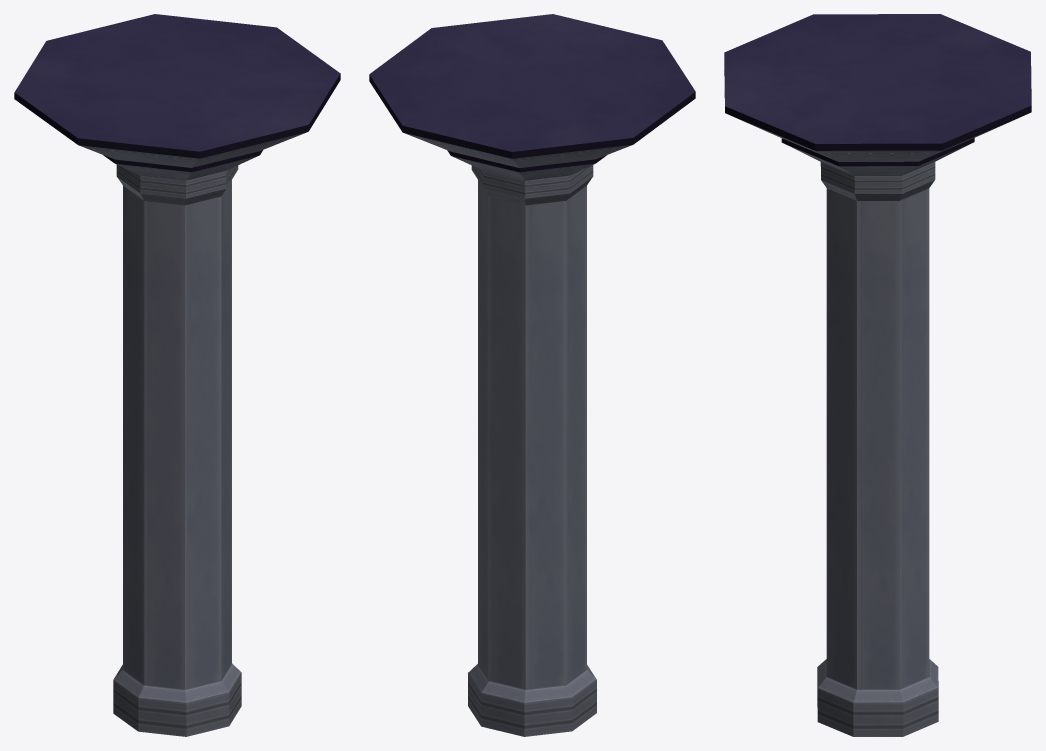
File: MetalPillar.fbx
The picture shows the model from 3 angles, left to right: view 1: azimuth 30°, elevation 25°; view 2: azimuth 150°, elevation 25°; view 3: azimuth 270°, elevation 25°; orthographic projection.
Parts seen in each view (by area): view 1: Cylinder; view 2: Cylinder; view 3: Cylinder.
Part boxes in pixels (<box>): Cylinder: <box>14,14,340,736</box>; Cylinder: <box>369,14,695,736</box>; Cylinder: <box>724,14,1031,736</box>.
Size of the model in its own units: 299 by 679 by 299.
